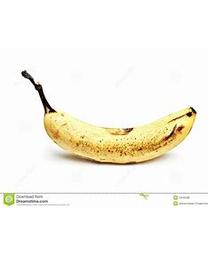banana: (20, 69, 195, 164)
